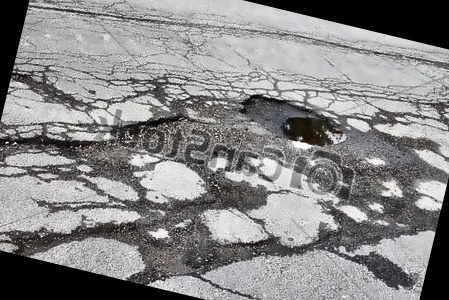pothole: (234, 85, 358, 155), (120, 100, 192, 145)
